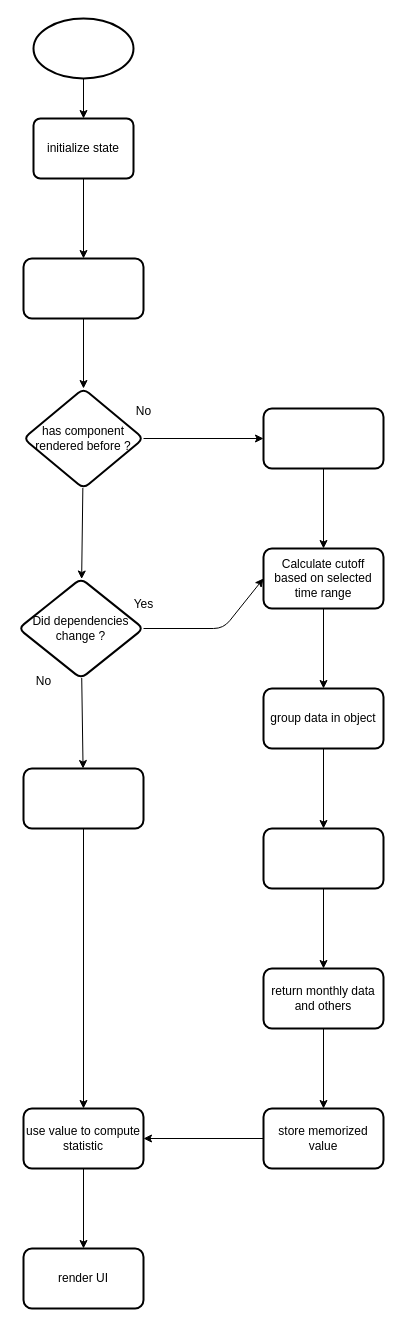
Some shapes in this 401 by 1326 pixel diagram are drawn without their labels. Here are the shapes that lost their labels. From the top down, the centre of each, then its label:
At [83,48]: "start".
At [83,288]: "memorize vital data/calculations outcome".
At [323,438]: "initialize cutoff Date and Current".
At [83,798]: "use previous memorized value".
At [323,858]: "Convert object to an array and sort chronologically".
